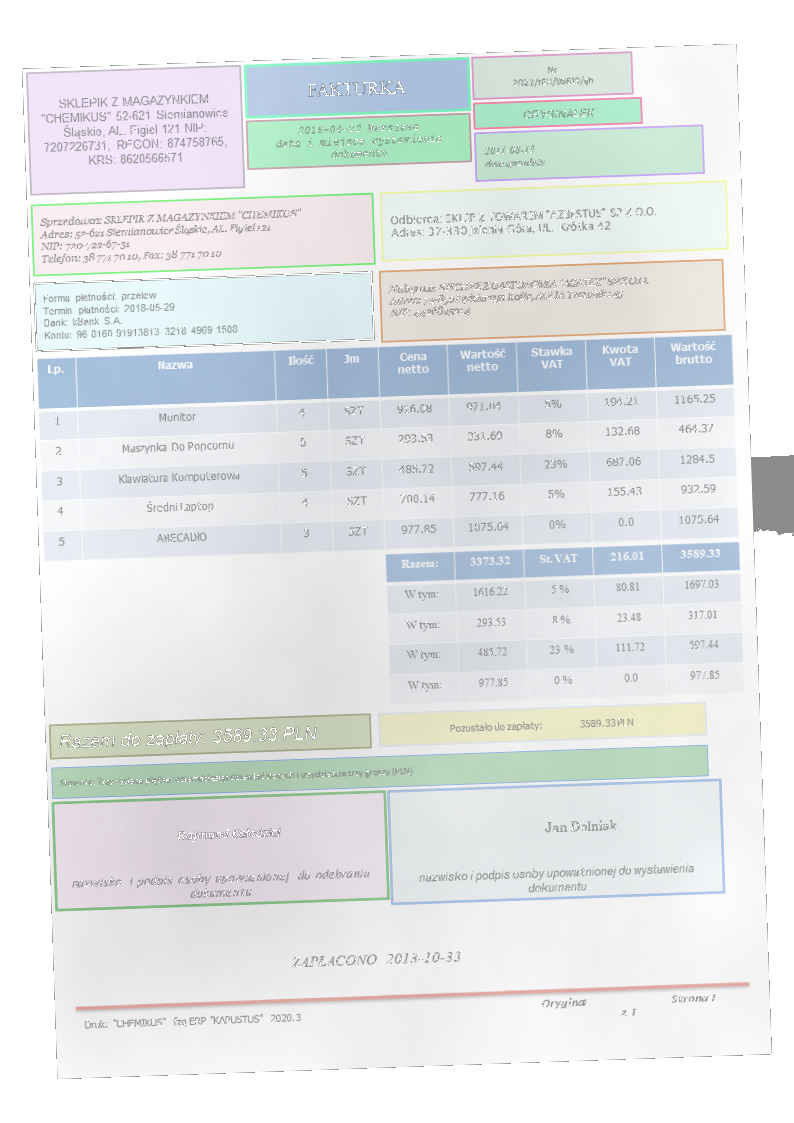Table: (35, 333, 740, 563), (384, 539, 746, 706)
TextBox: (35, 205, 307, 267), (39, 90, 233, 170), (386, 272, 652, 321), (69, 866, 372, 905), (39, 285, 239, 342), (417, 860, 696, 899), (388, 203, 659, 241), (56, 764, 414, 790), (55, 720, 320, 752), (273, 119, 445, 164), (539, 991, 719, 1021), (82, 1009, 302, 1031), (291, 948, 462, 971), (448, 715, 634, 735), (303, 77, 408, 101), (510, 62, 596, 91), (174, 824, 282, 844), (481, 142, 546, 171), (542, 816, 621, 837), (520, 104, 597, 122)
